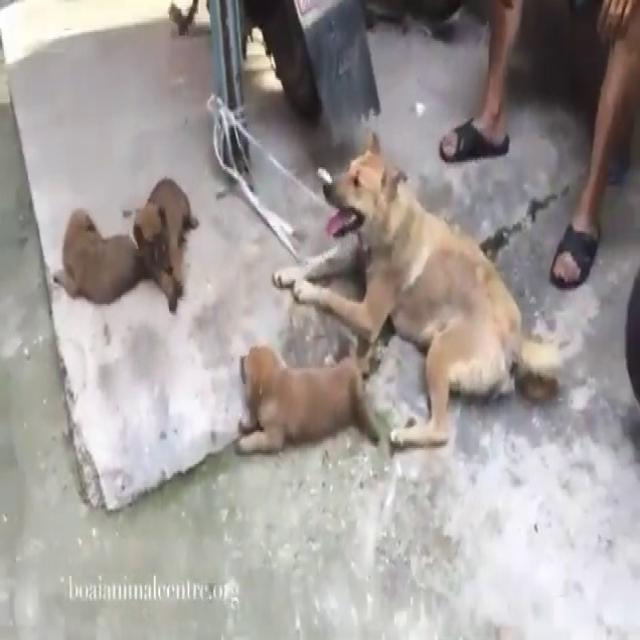normal_animals: (267, 126, 558, 455)
